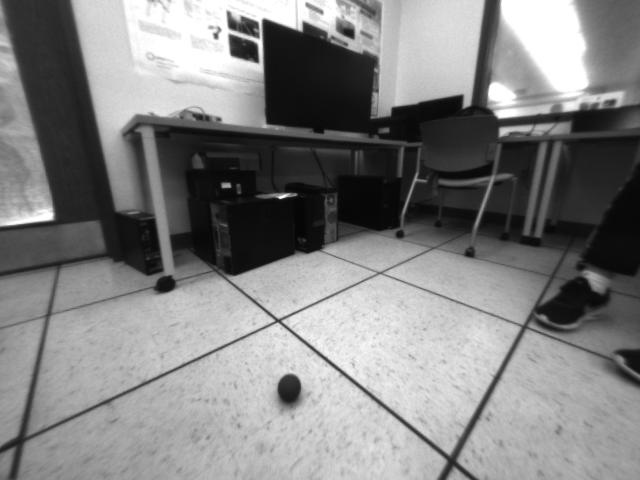dogtoy: (273, 365, 307, 409)
